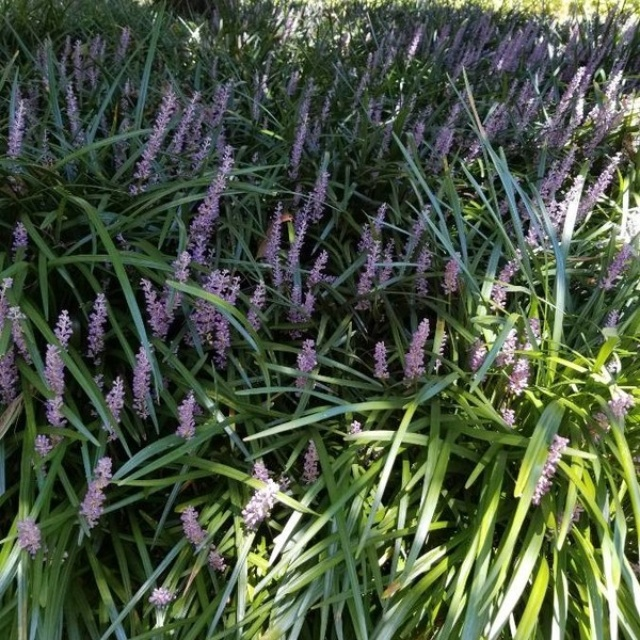obstacle: (73, 127, 596, 574)
